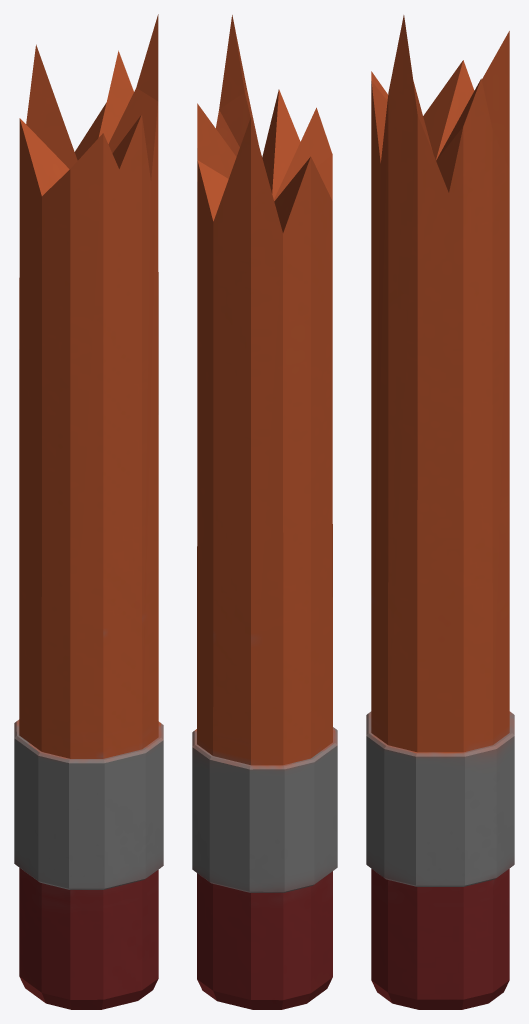
File: broken pencil (bottom).fbx
3 renders of one model, left to right at view 1: azimuth 30°, elevation 25°; view 2: azimuth 150°, elevation 25°; view 3: azimuth 270°, elevation 25°, orthographic. The views are drawn at different scales.
Visible parts, largest first — view 1: pencil_platforms__untextured_:Multiverse_Academy_platform_mo; view 2: pencil_platforms__untextured_:Multiverse_Academy_platform_mo; view 3: pencil_platforms__untextured_:Multiverse_Academy_platform_mo.
Part boxes in pixels (<box>): pencil_platforms__untextured_:Multiverse_Academy_platform_mo: <box>14,14,163,1009</box>; pencil_platforms__untextured_:Multiverse_Academy_platform_mo: <box>192,15,337,1009</box>; pencil_platforms__untextured_:Multiverse_Academy_platform_mo: <box>366,15,514,1009</box>.
Size of the model in its own units: 2.95 by 21.88 by 2.95.
